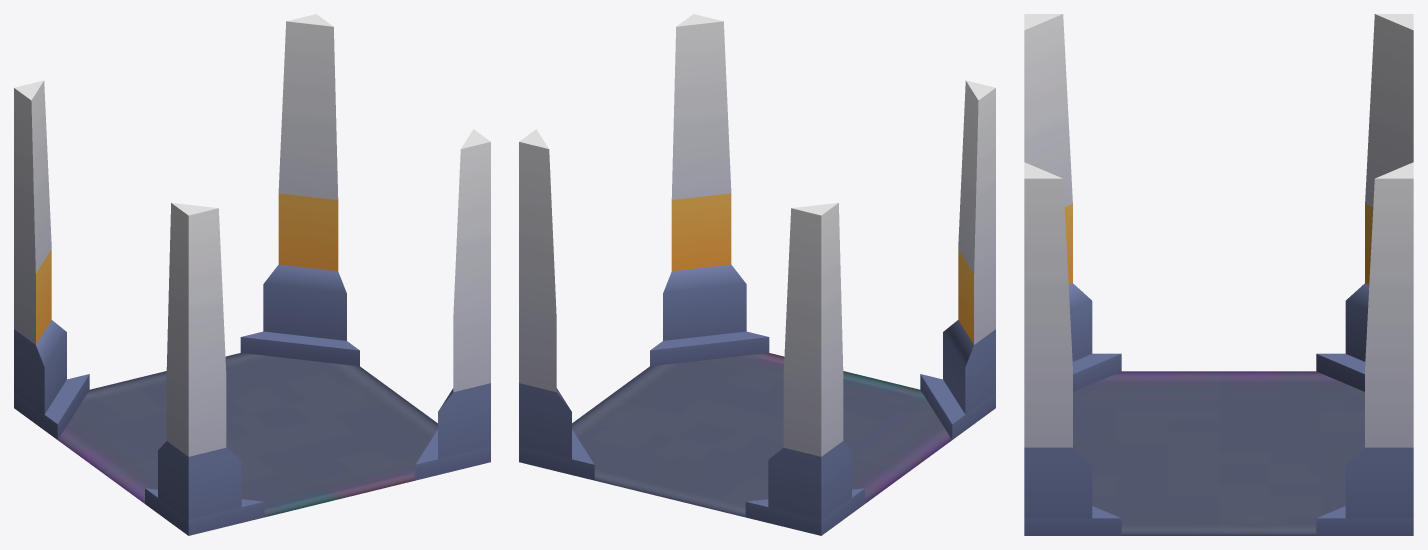
Rendered from corridor-intersection.glb.
3 views of the same model, side by side, from view 1: azimuth 30°, elevation 25°; view 2: azimuth 150°, elevation 25°; view 3: azimuth 270°, elevation 25° (orthographic). The views are drawn at different scales.
Visible parts, largest first — view 1: corridor-intersection; view 2: corridor-intersection; view 3: corridor-intersection.
Part boxes in pixels (bbox=[...]): corridor-intersection: bbox=[14, 14, 490, 535]; corridor-intersection: bbox=[519, 14, 995, 535]; corridor-intersection: bbox=[1024, 14, 1413, 535].
Size of the model in its own units: 4 by 4.05 by 4.
Materials: 1 (1 with a texture image).
